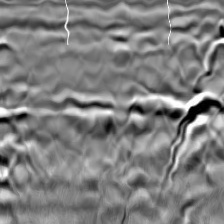Utility: (158, 91, 224, 180), (189, 32, 224, 89)
